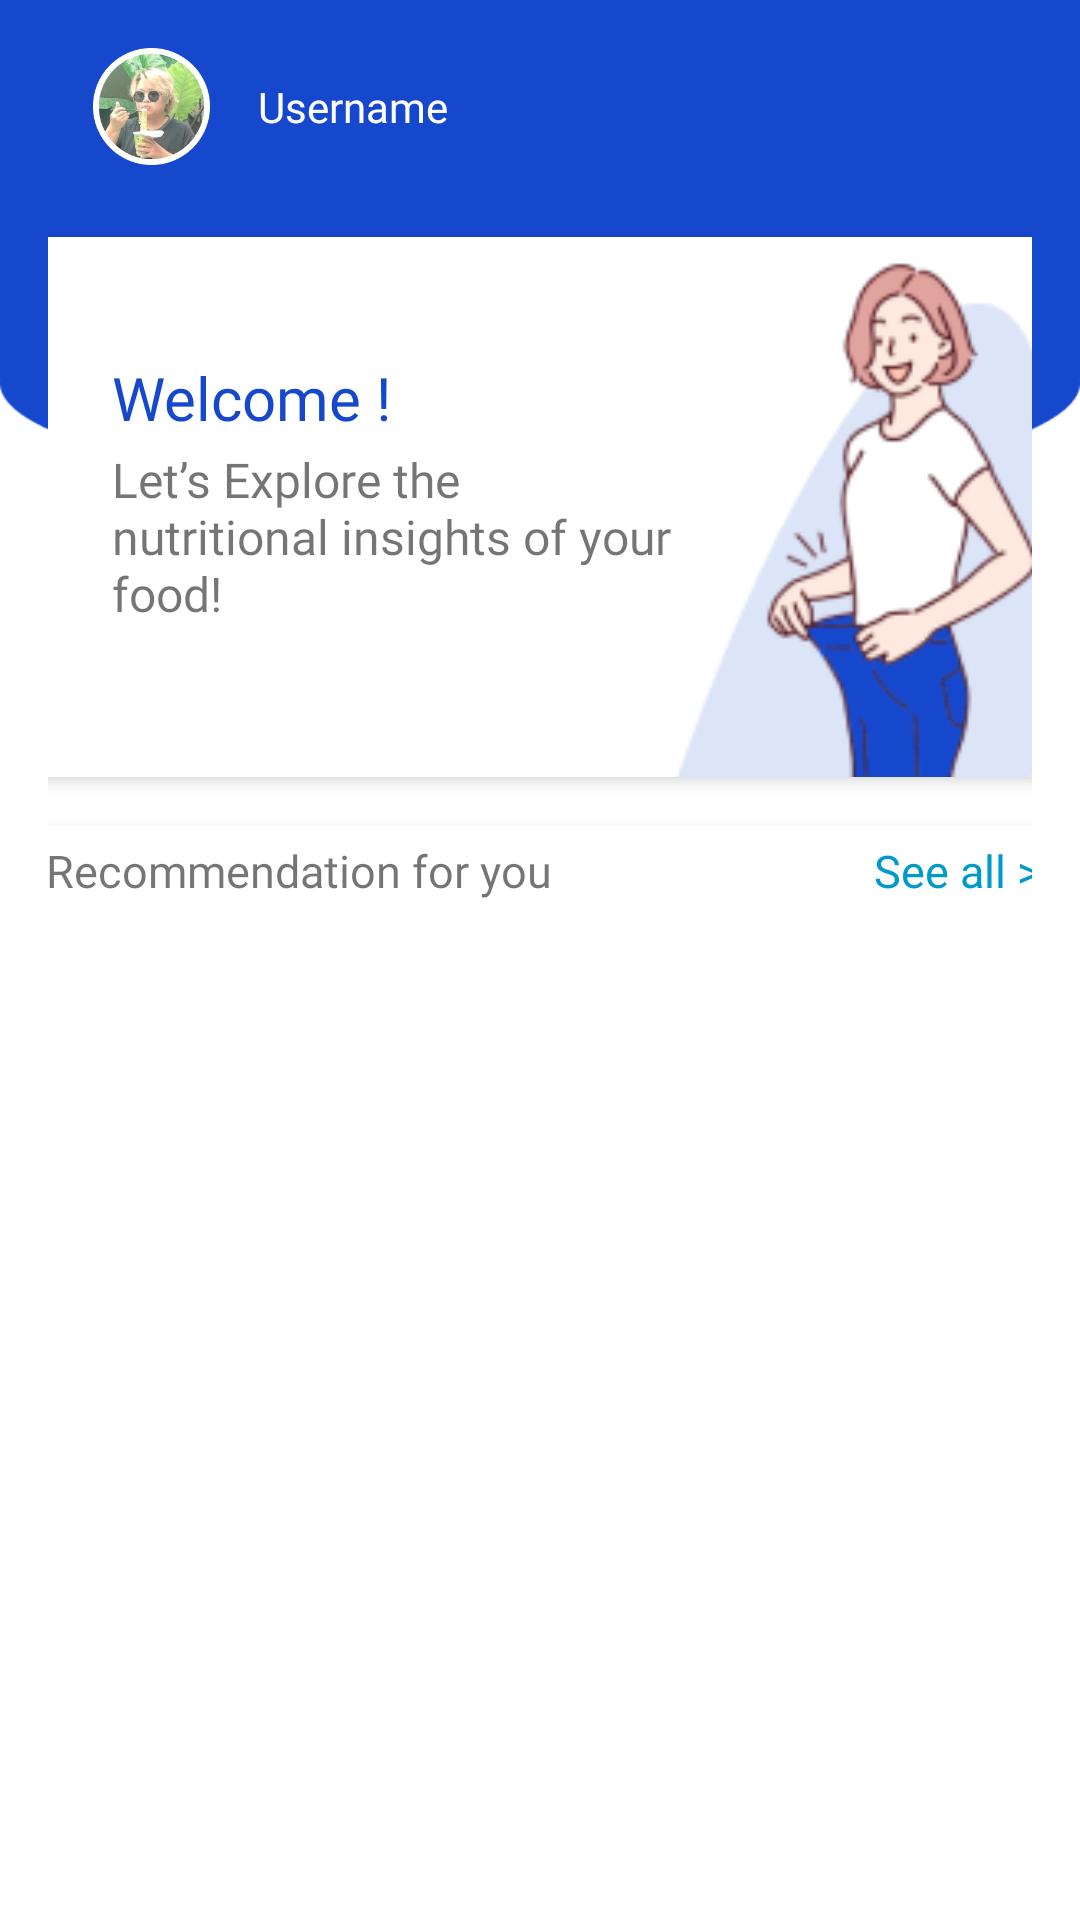

Where icons sit on this 1080*1920 app screen, as (x1, y1, x2, y2):
profile personal: (93, 48, 210, 165)
